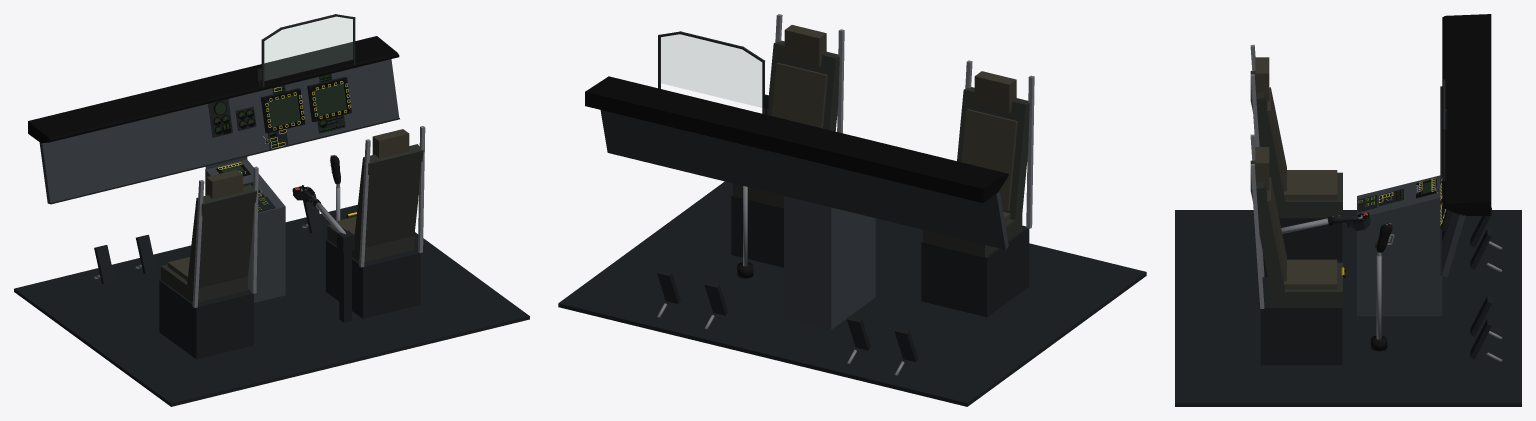
File: cockpit_uh60.glb
3 renders of one model, left to right at view 1: azimuth 30°, elevation 25°; view 2: azimuth 150°, elevation 25°; view 3: azimuth 270°, elevation 25°, orthographic. The views are drawn at different scales.
Visible parts, largest first — view 1: dark.105, panel_grey, black, dark.111, seat_95.001, seat_95, dark.110, hud_glass_69, panel_grey.001, seat_93.001, seat_93, dark.113 (+11 smaller); view 2: dark.105, panel_grey, black, panel_grey.001, dark.111, hud_glass_69, panel_grey.002, cushion_96.001, dark.110, cushion_96, seat_95.001, seat_95 (+8 smaller); view 3: dark.105, black, panel_grey.001, dark.110, dark.111, seat_95, cushion_94, cushion_94.001, seat_93, seat_93.001, seat_95.001, panel_grey (+11 smaller).
Boxes of the visible parts, x1,y1,x2,y2 form: dark.105: [14, 204, 529, 406]; panel_grey: [39, 59, 399, 203]; black: [28, 36, 399, 143]; dark.111: [159, 280, 253, 359]; seat_95.001: [187, 184, 256, 292]; seat_95: [354, 144, 423, 250]; dark.110: [326, 239, 420, 318]; hud_glass_69: [264, 17, 352, 80]; panel_grey.001: [205, 159, 285, 302]; seat_93.001: [161, 264, 247, 302]; seat_93: [327, 224, 414, 261]; dark.113: [339, 250, 351, 322]; dark.105: [558, 181, 1146, 406]; panel_grey: [600, 110, 1008, 249]; black: [585, 76, 1008, 202]; panel_grey.001: [784, 196, 875, 329]; dark.111: [921, 225, 1029, 317]; hud_glass_69: [661, 34, 761, 107]; panel_grey.002: [784, 197, 831, 329]; cushion_96.001: [961, 109, 1017, 210]; dark.110: [731, 195, 783, 267]; cushion_96: [771, 62, 827, 128]; seat_95.001: [957, 87, 1029, 220]; seat_95: [767, 40, 839, 131]; dark.105: [1175, 210, 1521, 406]; black: [1442, 14, 1491, 215]; panel_grey.001: [1357, 175, 1442, 316]; dark.110: [1260, 277, 1342, 365]; dark.111: [1279, 217, 1342, 262]; seat_95: [1250, 160, 1284, 293]; cushion_94: [1284, 259, 1337, 289]; cushion_94.001: [1284, 170, 1337, 199]; seat_93: [1270, 262, 1342, 306]; seat_93.001: [1276, 172, 1342, 217]; seat_95.001: [1250, 71, 1284, 201]; panel_grey: [1442, 86, 1465, 276].
Bounding box in the file's own units: 2.24 × 1.39 × 1.7.
Materials: 27 (6 with a texture image).
